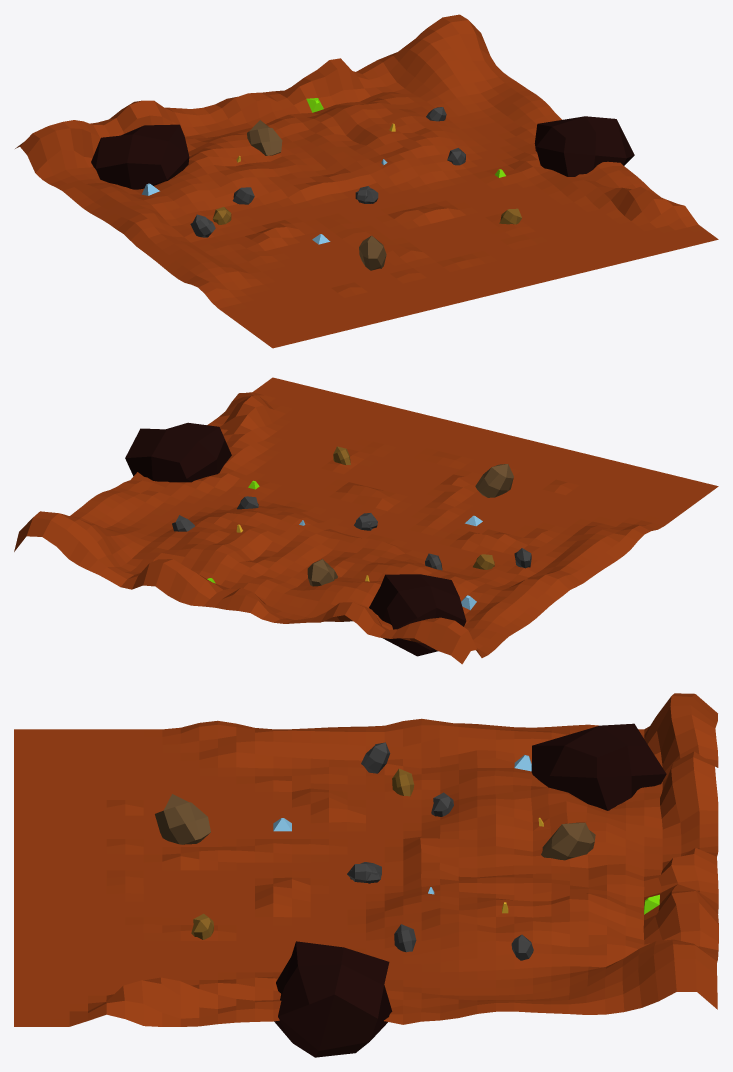
The model's file is terrain.glb.
The picture shows the model from 3 angles, top to bottom: view 1: azimuth 30°, elevation 25°; view 2: azimuth 150°, elevation 25°; view 3: azimuth 270°, elevation 25°; orthographic projection. The views are drawn at different scales.
Visible parts, largest first — view 1: Grid; view 2: Grid; view 3: Grid.
Part boxes in pixels (x1,y1,x2,y2): Grid: (15,14,718,348); Grid: (14,377,718,664); Grid: (14,693,718,1057).
Size of the model in its own units: 16.44 by 2.31 by 15.42.
